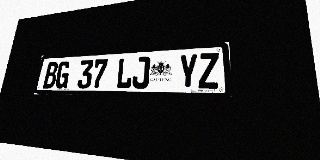3: (77, 60, 94, 89)
7: (90, 59, 108, 89)
B: (42, 62, 59, 88)
G: (54, 61, 71, 88)
J: (131, 56, 150, 89)
L: (115, 57, 134, 89)
Y: (178, 54, 198, 89)
Z: (198, 52, 219, 89)
